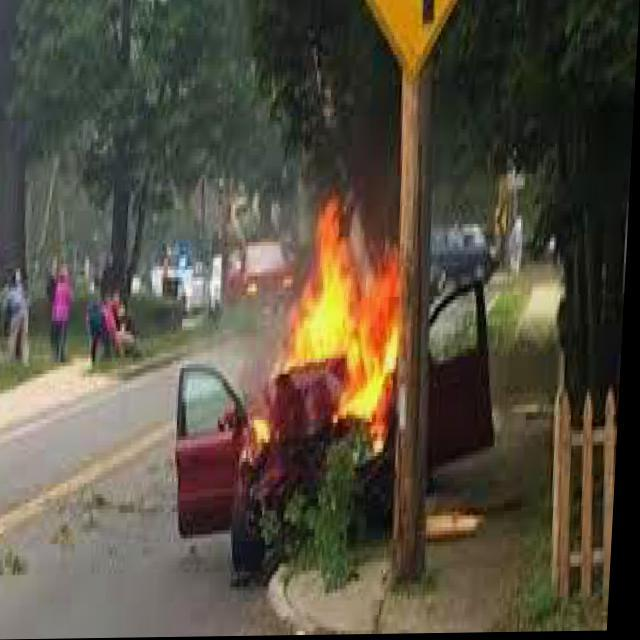Fire: (240, 200, 420, 478)
